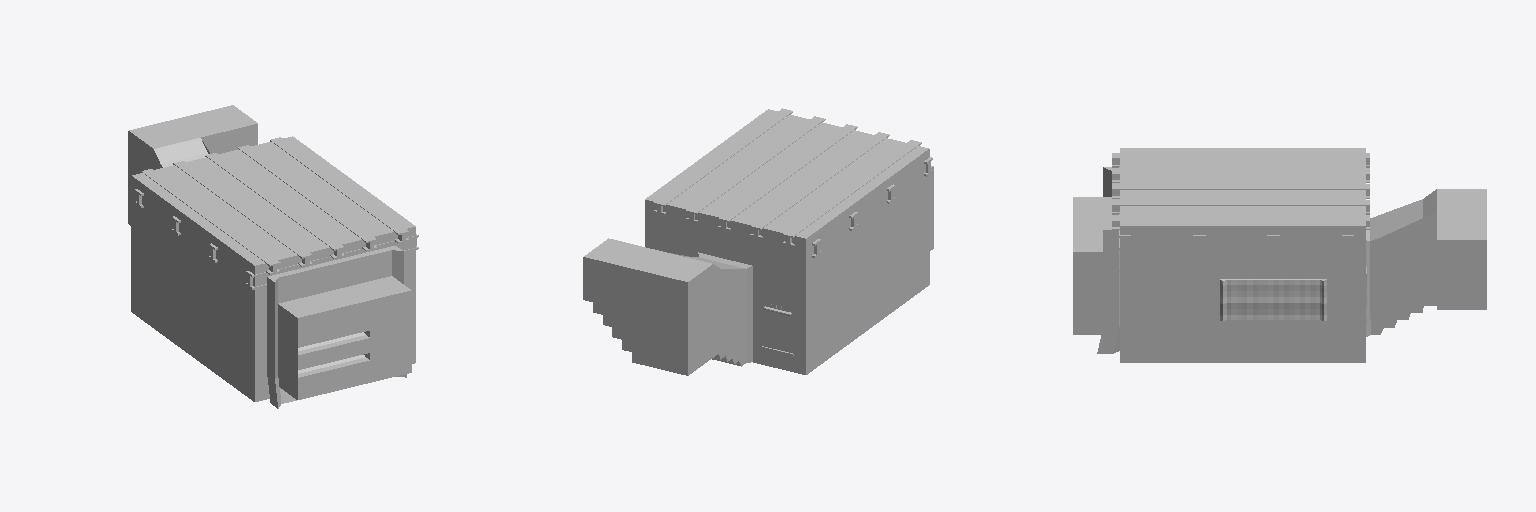
File: habitacion_pool.obj
The picture shows the model from 3 angles: view 1: azimuth 30°, elevation 25°; view 2: azimuth 150°, elevation 25°; view 3: azimuth 270°, elevation 25°; orthographic projection.
Parts seen in each view (by area): view 1: habitacion, Cube.011, Cube.005, Cube.007, Cube.006, Cube.009, Cube.008; view 2: habitacion, Cube.009, Cube.005, Cube.007, Cube.008, Cube.006; view 3: habitacion, alfombra, Cube.011, Cube.005, Cube.006, Cube.008, Cube.007, Cube.009.
Part boxes in pixels (x1,y1,x2,y2): habitacion: (128,105,415,401); Cube.011: (267,246,406,408); Cube.005: (205,153,344,258); Cube.007: (238,145,376,250); Cube.006: (173,161,312,266); Cube.009: (141,169,280,274); Cube.008: (270,137,408,243); habitacion: (583,109,933,375); Cube.009: (782,140,921,245); Cube.005: (718,124,857,230); Cube.007: (686,116,825,222); Cube.008: (654,108,792,214); Cube.006: (750,132,889,237); habitacion: (1073,148,1486,362); alfombra: (1220,279,1326,320); Cube.011: (1097,167,1119,353); Cube.005: (1112,184,1369,198); Cube.006: (1112,168,1369,182); Cube.008: (1112,215,1369,229); Cube.007: (1112,200,1369,214); Cube.009: (1112,153,1369,167).
Bounding box in the file's own units: 5.24 × 4.11 × 11.17.